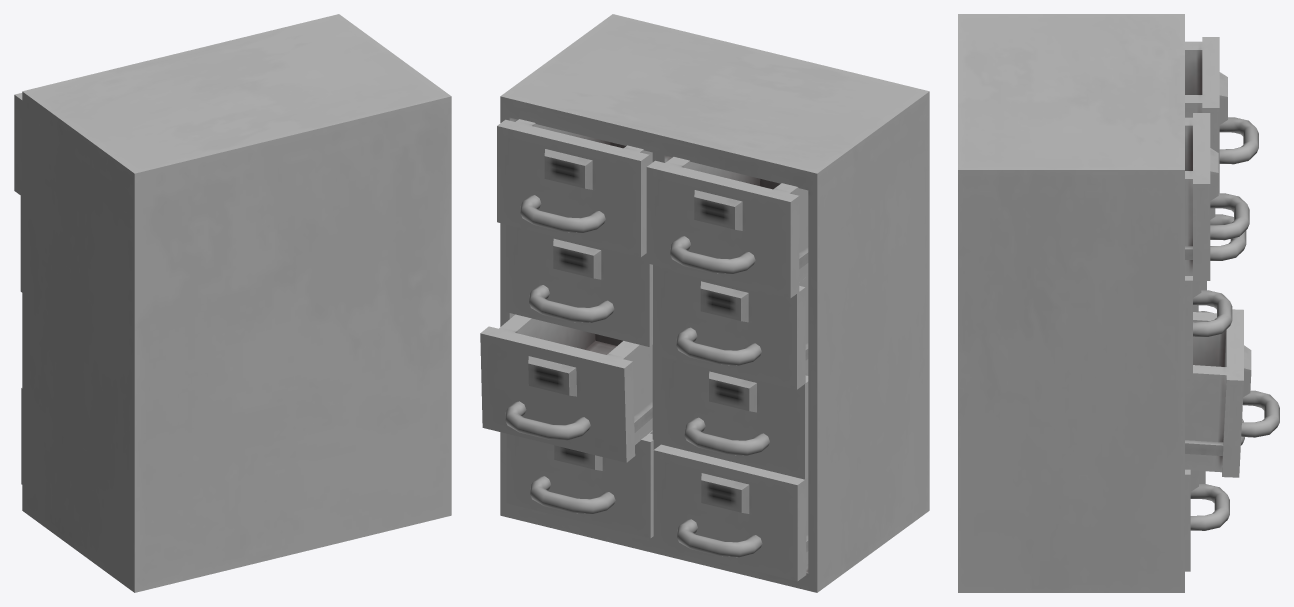
File: Pfb_FileCabient_L1__2.fbx
3 renders of one model, left to right at view 1: azimuth 30°, elevation 25°; view 2: azimuth 150°, elevation 25°; view 3: azimuth 270°, elevation 25°, orthographic.
Parts seen in each view (by area): view 1: Mat_FileCabient; view 2: Mat_FileCabient; view 3: Mat_FileCabient.
Part boxes in pixels (bbox=[...]): Mat_FileCabient: bbox=[14, 14, 451, 592]; Mat_FileCabient: bbox=[480, 14, 929, 592]; Mat_FileCabient: bbox=[958, 14, 1279, 592].
Bounding box in the file's own units: 1.25 × 1.58 × 1.09.
1 material, 1 textured.
